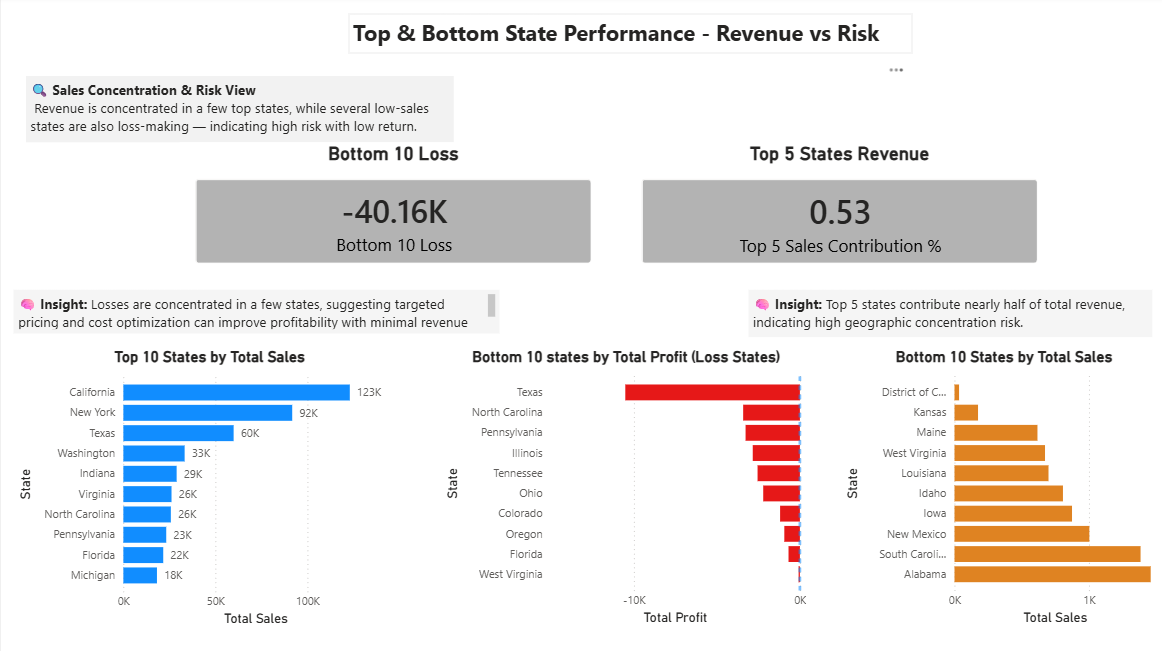

The dashboard page shown, as its layout file describes it:
{"tool":"powerbi","page":{"name":"Top 10 and Bottom 10 States","canvas":[1280,720],"ordinal":2},"visuals":[{"type":"clusteredBarChart","title":"Top 10 States by Total Sales","fields":{"Category":["Table1_2.State"],"Y":["Table1_2.Total Sales"]},"box":[13.7,385.6,430.9,311.5],"z":0},{"type":"clusteredBarChart","title":"Bottom 10 States by Total Sales ","fields":{"Category":["Table1_2.State"],"Y":["Table1_2.Total Sales"]},"box":[922.1,385.6,358.1,310.1],"z":1000},{"type":"clusteredBarChart","title":"Bottom 10 states by Total Profit (Loss States)","fields":{"Category":["Table1_2.State"],"Y":["Table1_2.Total Profit"]},"box":[483,385.6,406.2,310.1],"z":2000},{"type":"textbox","box":[381.5,19.2,618.9,43.9],"z":3000},{"type":"textbox","box":[27.4,87.8,469.3,72.7],"z":4000},{"type":"cardVisual","title":"Top 5 States Revenue","fields":{"Data":["Table1_2.Top 5 Sales Contribution %"]},"box":[686.1,160.5,469.3,150.9],"z":5000},{"type":"textbox","box":[820.6,322.5,443.2,52.1],"z":6000},{"type":"cardVisual","title":"Bottom 10 Loss","fields":{"Data":["Table1_2.Bottom 10 Loss"]},"box":[196.2,160.5,469.3,150.9],"z":7000},{"type":"textbox","box":[13.7,322.5,533.8,48],"z":8000}]}

Visuals, with their boxes in screenshot pixels (x1, y1, x2, y2), scaled from the page's 1280x720 canvas onto the 1162x651 screenshot:
"Top 10 States by Total Sales" clusteredBarChart: box(12, 349, 404, 630)
"Bottom 10 States by Total Sales " clusteredBarChart: box(837, 349, 1161, 629)
"Bottom 10 states by Total Profit (Loss States)" clusteredBarChart: box(438, 349, 807, 629)
textbox: box(346, 17, 908, 57)
textbox: box(25, 79, 451, 145)
"Top 5 States Revenue" cardVisual: box(623, 145, 1049, 282)
textbox: box(745, 292, 1147, 339)
"Bottom 10 Loss" cardVisual: box(178, 145, 604, 282)
textbox: box(12, 292, 497, 335)
